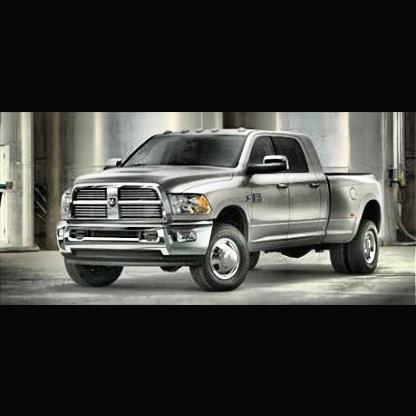Dodge Ram Pickup 3500 Crew Cab 2010: (60, 128, 385, 295)
